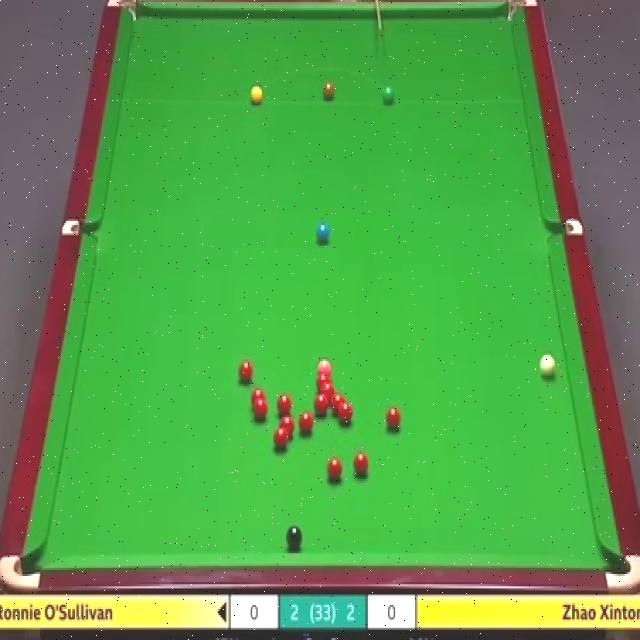black-ball: (286, 522, 303, 551)
blue-ball: (315, 222, 330, 246)
brown-ball: (322, 83, 334, 101)
green-ball: (382, 85, 394, 105)
pink-ball: (316, 356, 331, 372)
red-ball: (274, 427, 291, 453), (338, 400, 354, 424), (385, 408, 402, 430), (253, 401, 269, 424), (299, 412, 315, 435), (327, 457, 343, 480), (239, 359, 254, 383), (354, 453, 369, 476), (250, 388, 267, 408), (277, 396, 292, 417), (282, 416, 296, 436), (312, 395, 328, 412), (332, 396, 347, 413), (318, 382, 336, 395), (315, 374, 332, 384)
white-ball: (537, 351, 558, 382)
yellow-ball: (250, 84, 264, 105)
